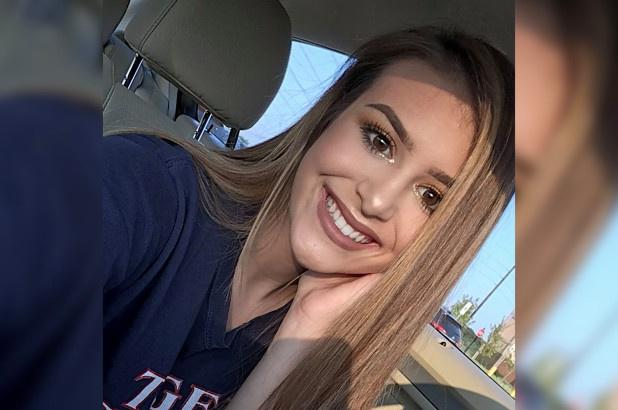face: (291, 61, 476, 273)
